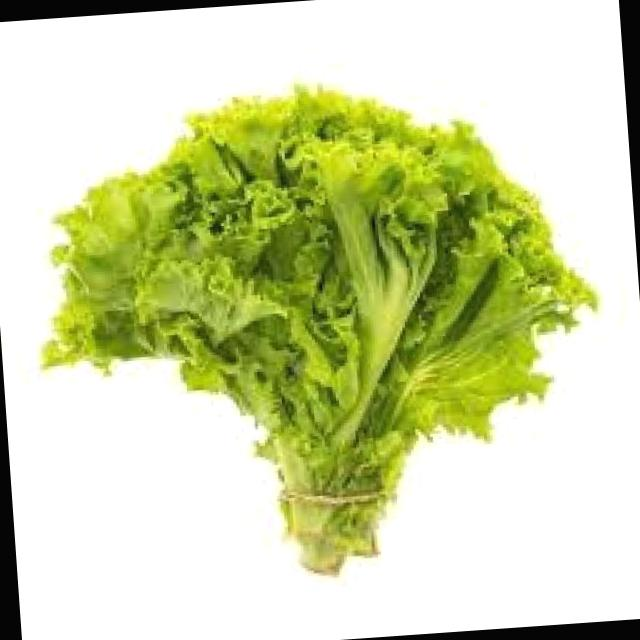Lettuce-Ready-to-Harvest: (44, 87, 594, 572)
